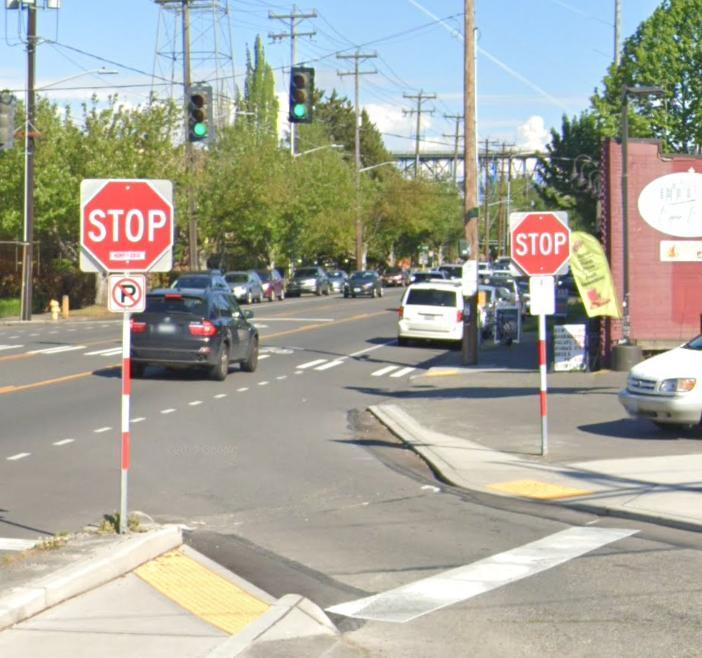Pole: (120, 312, 129, 533), (539, 316, 549, 454)
Sign: (82, 176, 169, 273), (513, 215, 568, 271)
